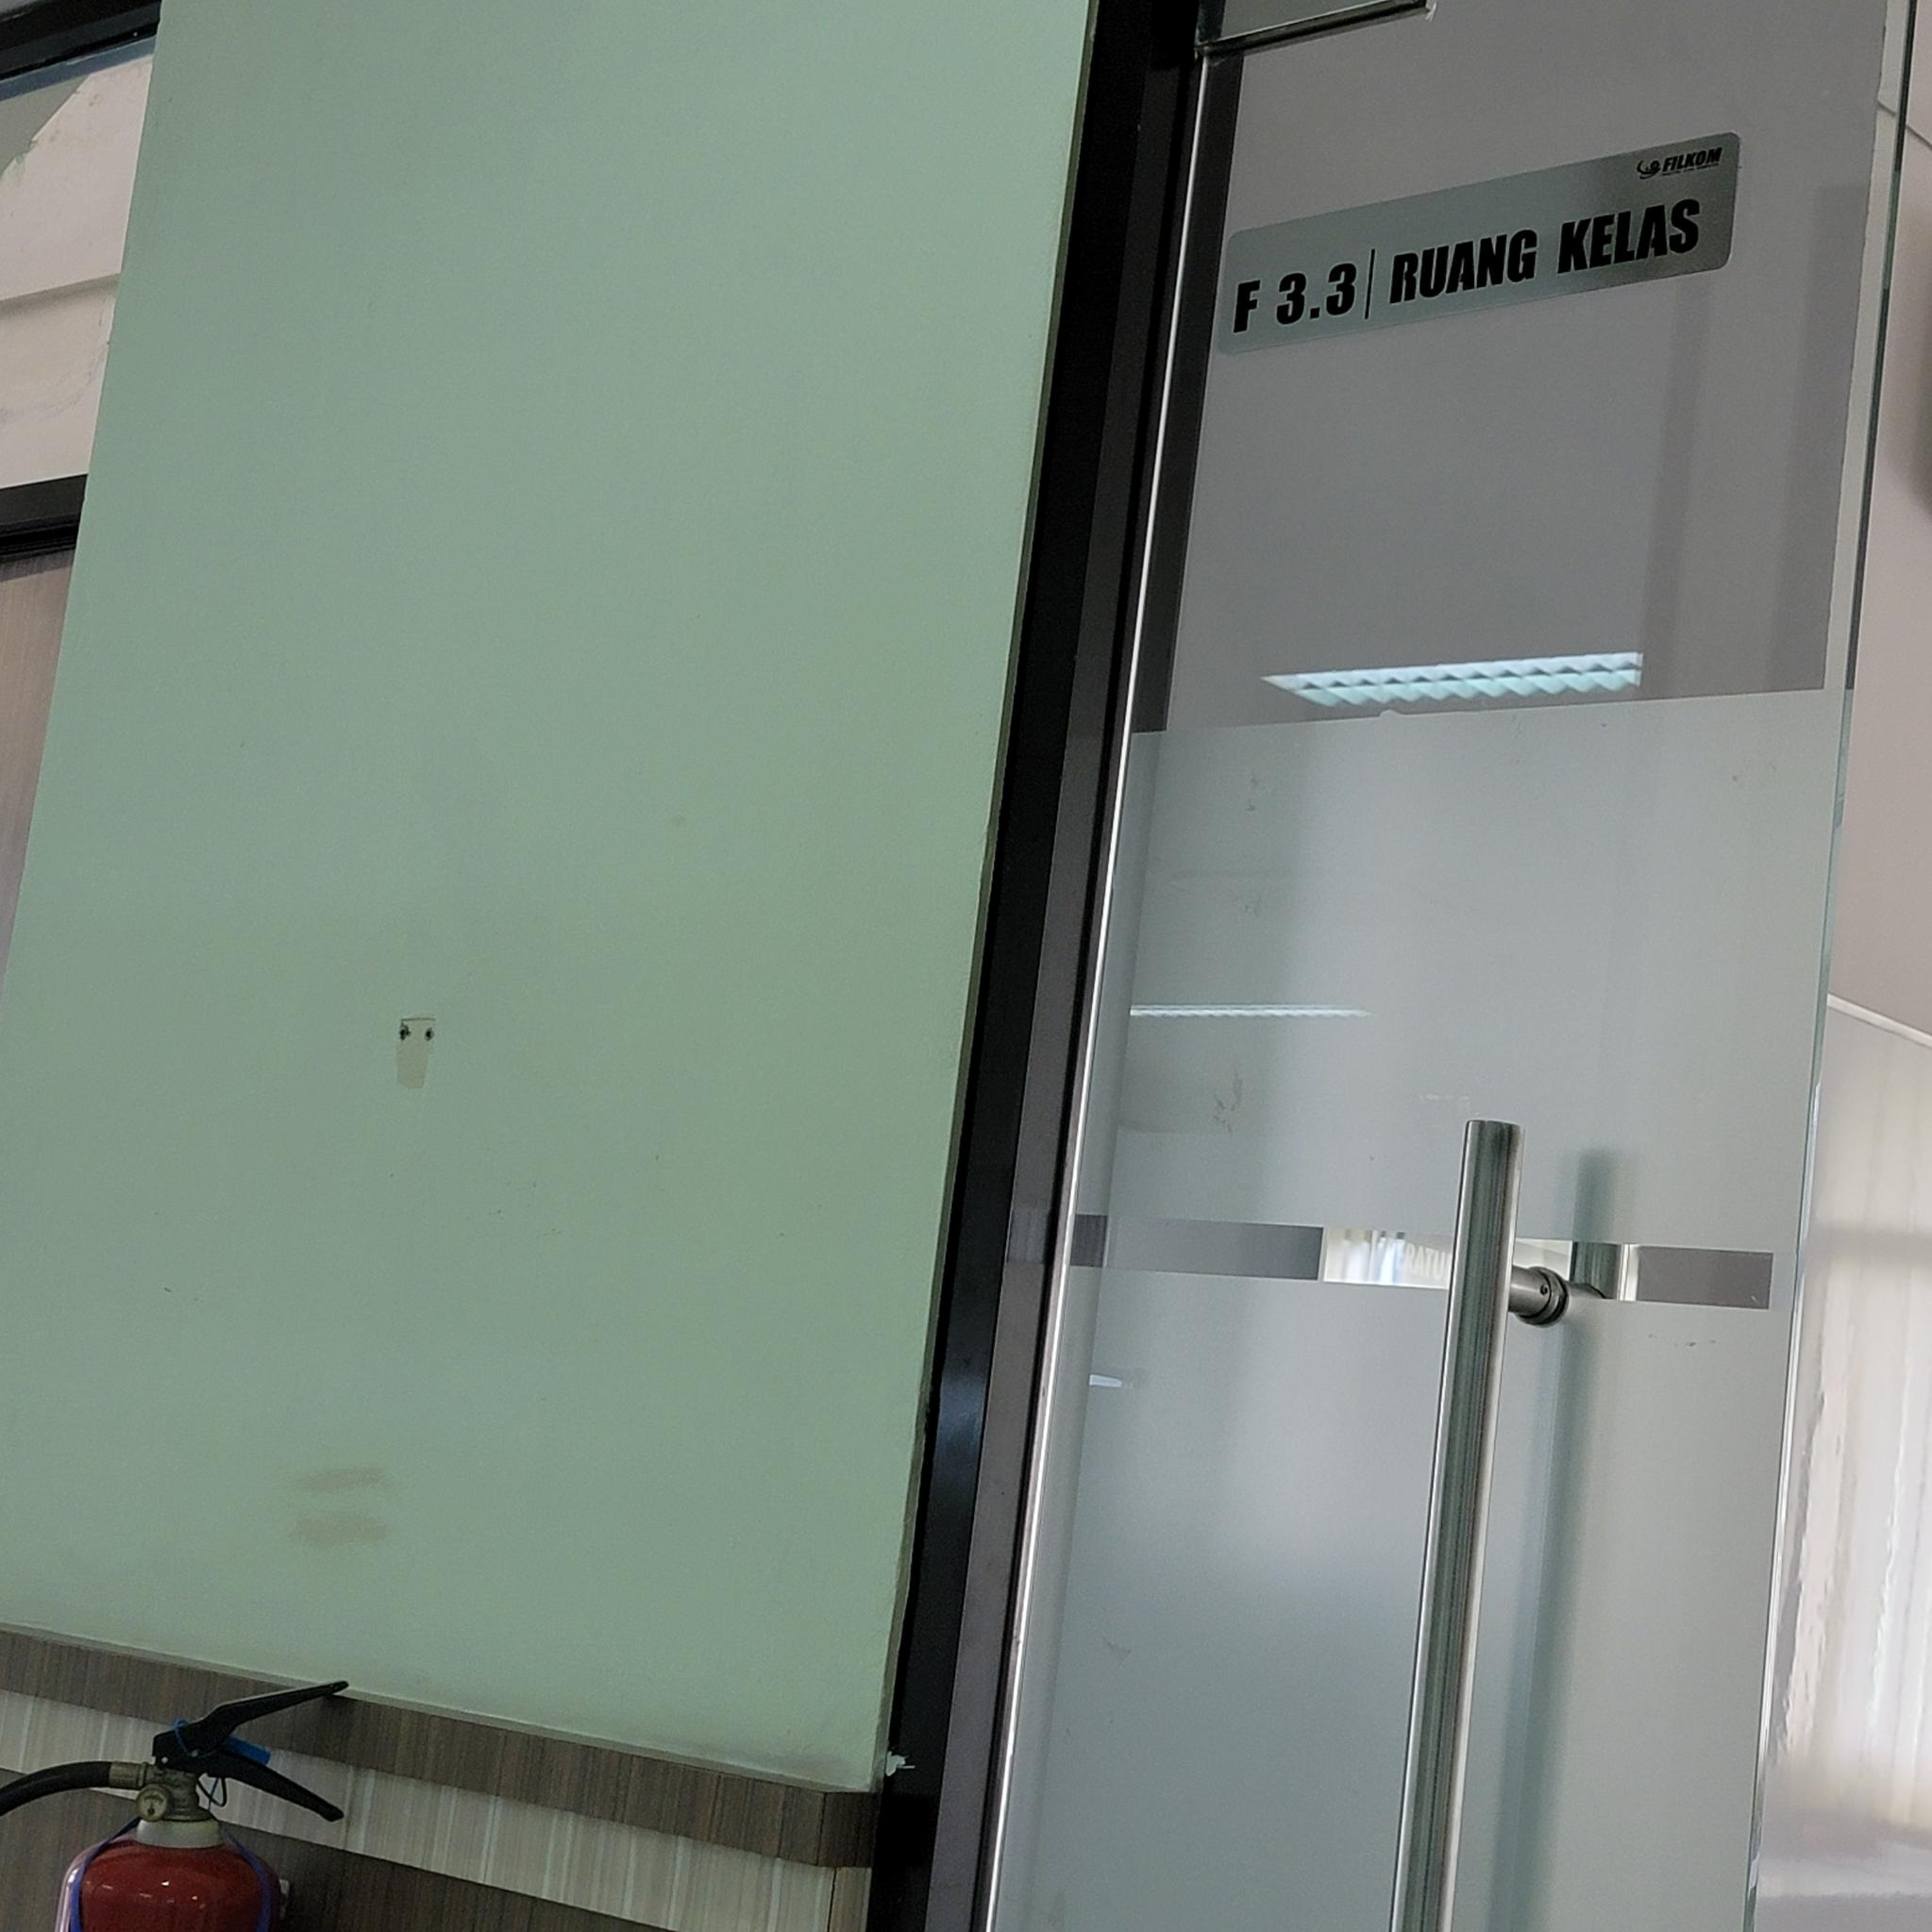plate: (1214, 129, 1743, 357)
